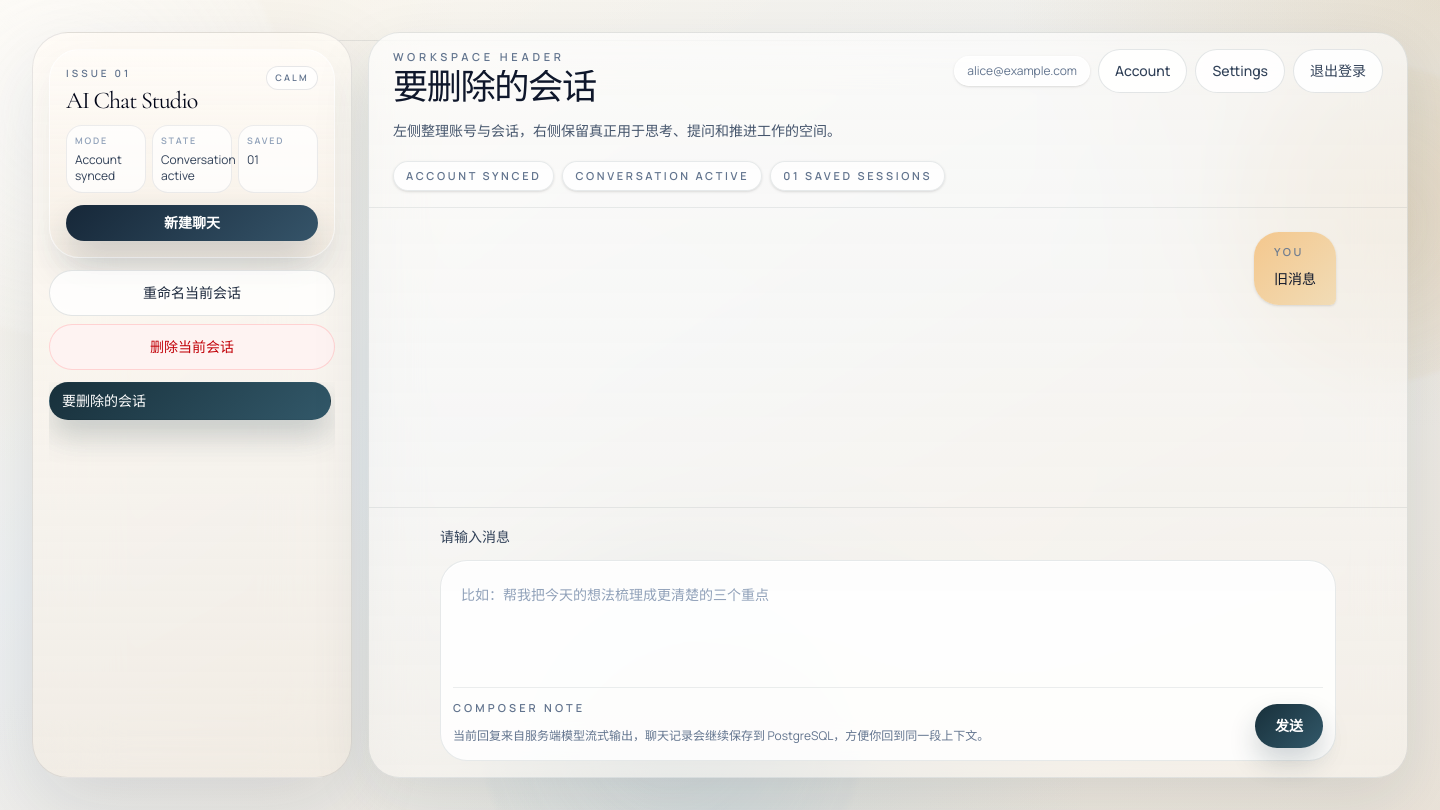
Scenario: ChatApp › deletes the active chat and clears the current conversation
Expected: the text "旧消息" is shown, x1=1274 y1=265 x2=1316 y2=293
Click the button "删除当前会话": click(192, 346) x1=49 y1=324 x2=335 y2=370
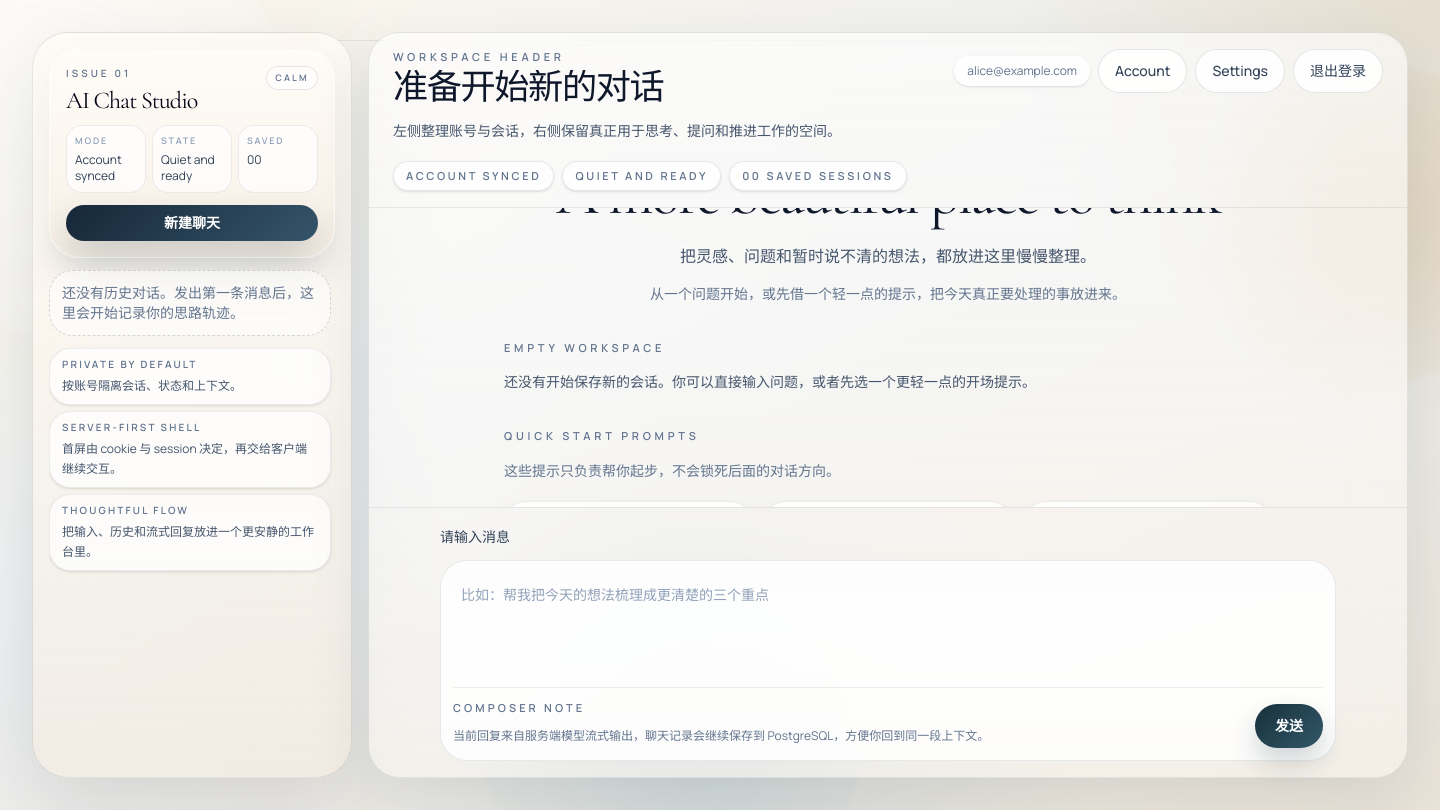
Expected: the text "旧消息" is gone
Expected: the button "要删除的会话" is gone
